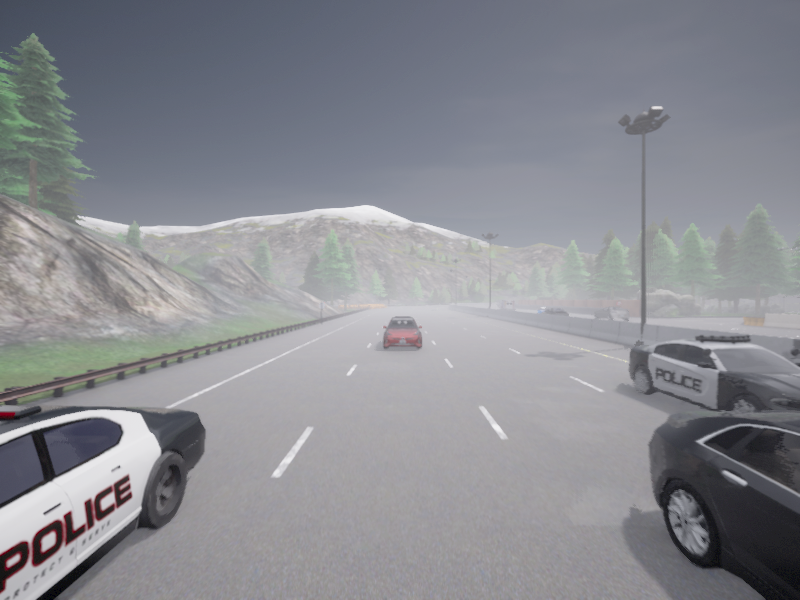vehicle: (0, 405, 205, 599), (648, 410, 799, 599), (628, 335, 799, 411), (382, 317, 422, 348), (593, 307, 629, 320), (541, 308, 567, 315), (497, 300, 514, 310), (537, 307, 546, 312)
